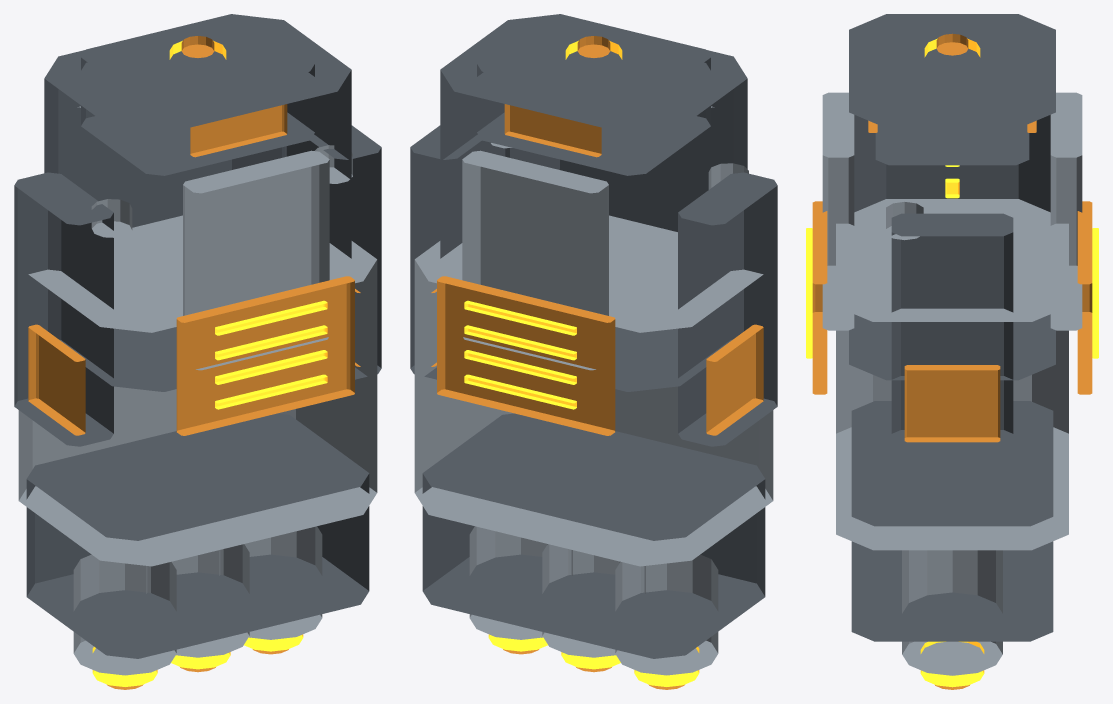
Rendered from LaserRepeaterW_T1.glb.
The picture shows the model from 3 angles, left to right: view 1: azimuth 30°, elevation 25°; view 2: azimuth 150°, elevation 25°; view 3: azimuth 270°, elevation 25°; orthographic projection. The views are drawn at different scales.
Visible parts, largest first — view 1: Receiver Armor, Machined Titanium Parts, Photon Accent, Photon Emitter Glow; view 2: Receiver Armor, Machined Titanium Parts, Photon Accent, Photon Emitter Glow; view 3: Receiver Armor, Machined Titanium Parts, Photon Accent, Photon Emitter Glow.
Boxes of the visible parts, x1,y1,x2,y2 form: Receiver Armor: (14,14,381,658); Machined Titanium Parts: (18,106,377,675); Photon Accent: (28,36,360,689); Photon Emitter Glow: (92,40,327,686); Receiver Armor: (410,14,777,658); Machined Titanium Parts: (414,106,773,675); Photon Accent: (431,36,763,689); Photon Emitter Glow: (464,40,699,686); Receiver Armor: (849,14,1055,641); Machined Titanium Parts: (822,92,1082,675); Photon Accent: (812,33,1092,689); Photon Emitter Glow: (806,38,1098,687).
Size of the model in its own units: 1.34 by 2.52 by 1.11.
